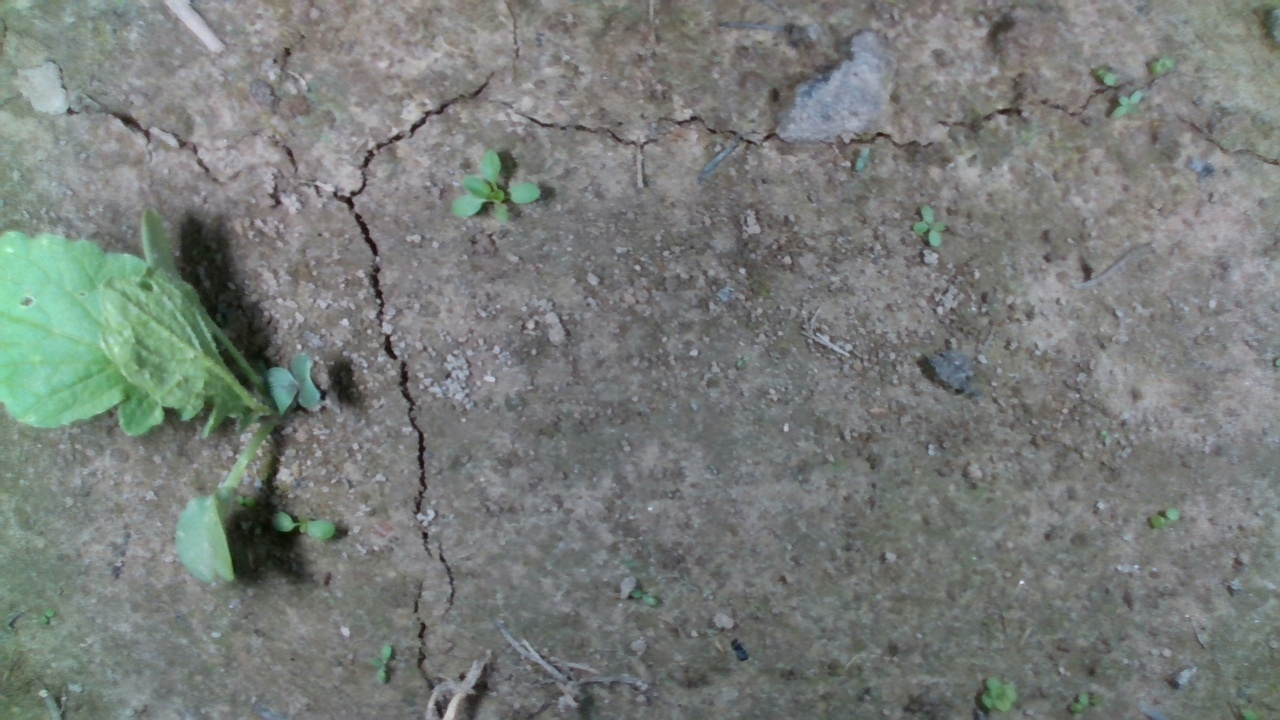weed: (270, 508, 337, 541), (909, 200, 949, 249), (1108, 87, 1144, 123), (368, 642, 393, 687), (1145, 507, 1181, 530), (1090, 60, 1117, 86), (1066, 690, 1092, 715), (626, 587, 657, 606), (853, 143, 870, 171), (233, 494, 259, 508), (37, 607, 56, 625)
